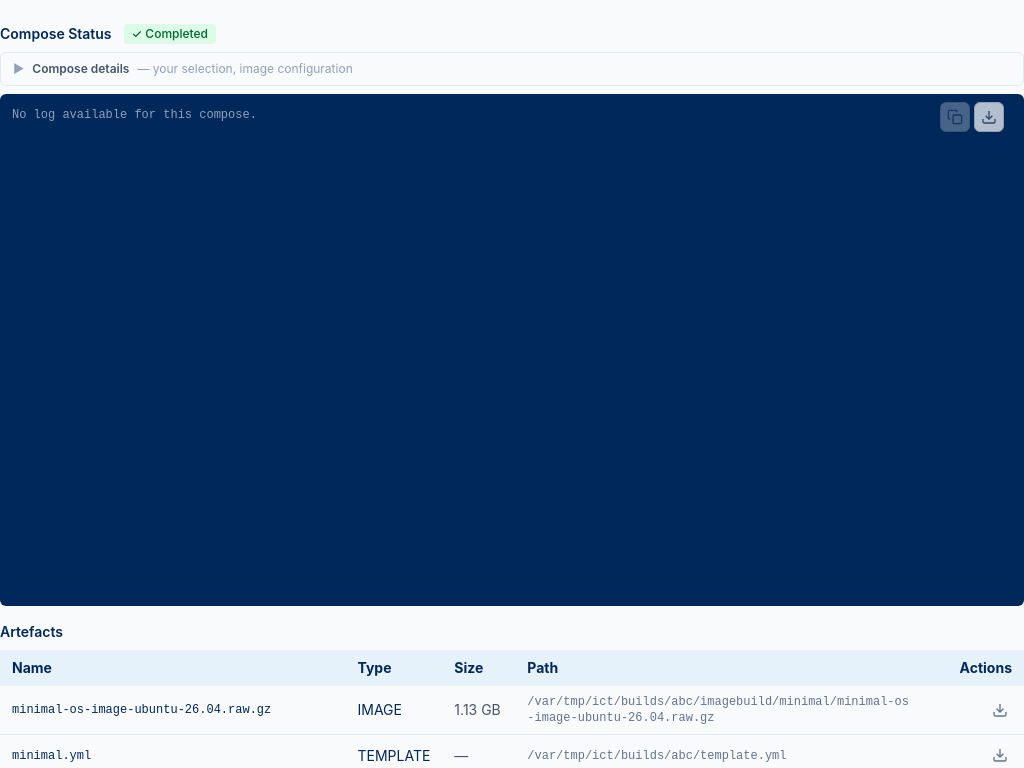
Test: BuildView template row › lists each Advanced-tab change by name, capping long lists behind Show more
Step 1. Click the button "▶ Compose details — your selection, image configuration" → point(81, 68), box [1, 53, 1023, 85]
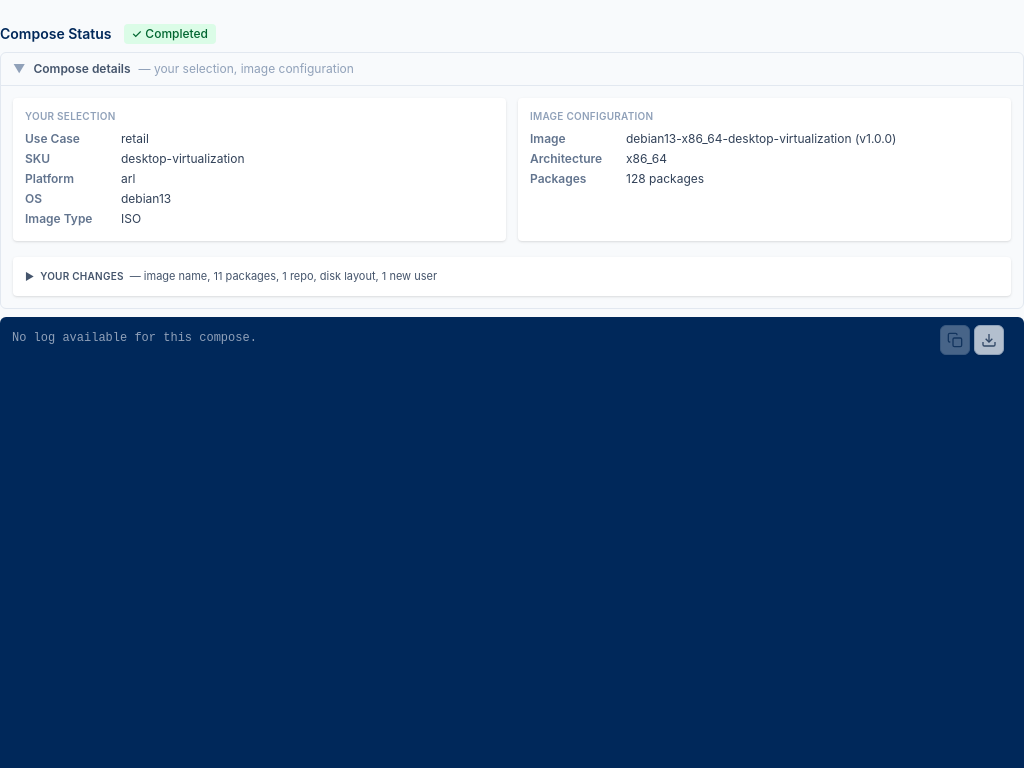
Now the button "Your changes" shows "image name, 11 packages, 1 repo, disk layout, 1 new user"
Step 2. Click the button "Your changes" → point(82, 276), box [25, 269, 999, 284]
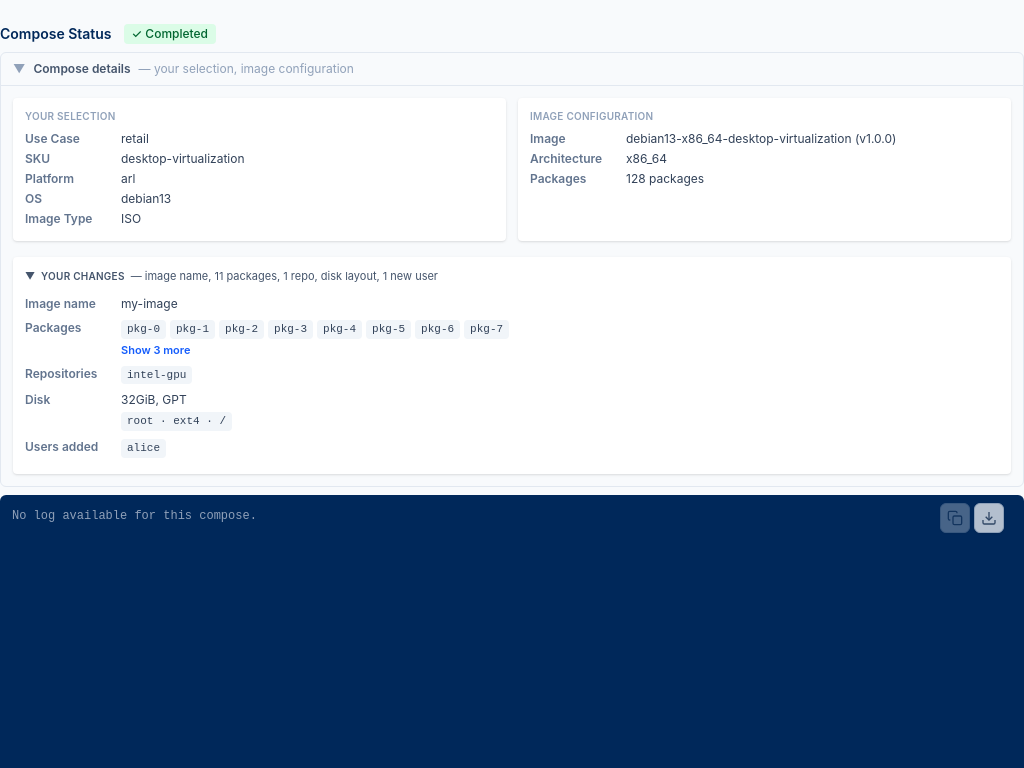
Now the text "my-image" is shown, box [121, 292, 999, 316]
Now the text "intel-gpu" is shown, box [121, 366, 192, 384]
Now the text "alice" is shown, box [121, 439, 166, 458]
Step 3. Click the button "Show 3 more" → point(156, 350), box [121, 343, 190, 357]
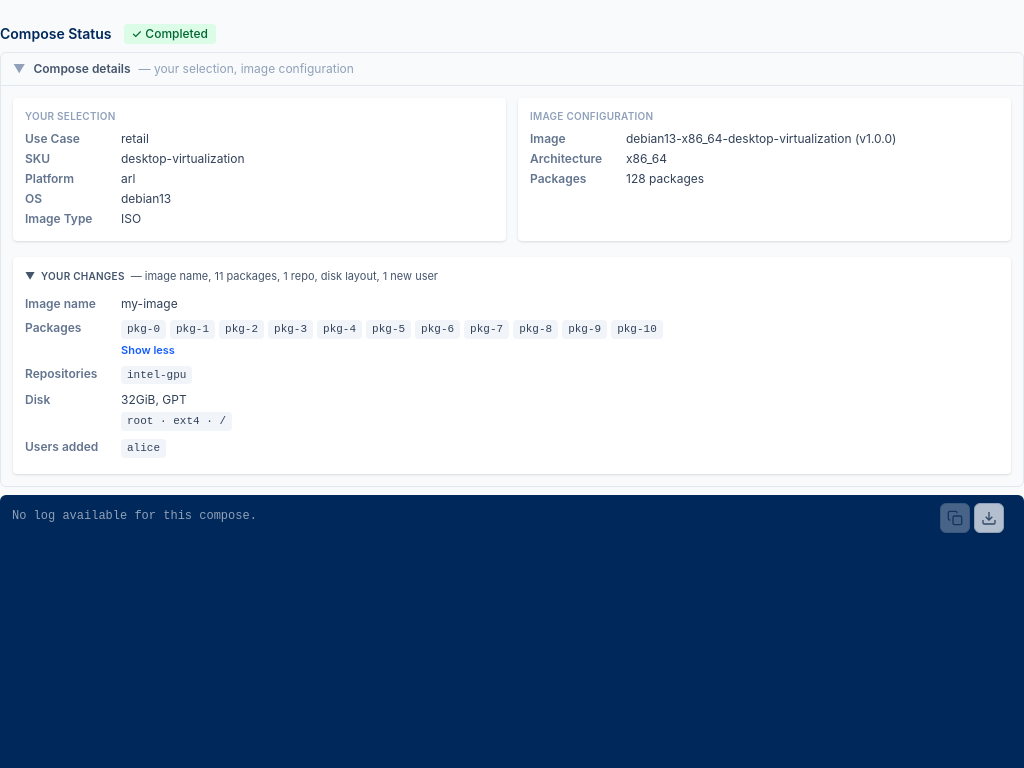
Now the text "pkg-10" is shown, box [611, 320, 663, 339]
Now the button "Show less" is shown, box [121, 343, 175, 357]
